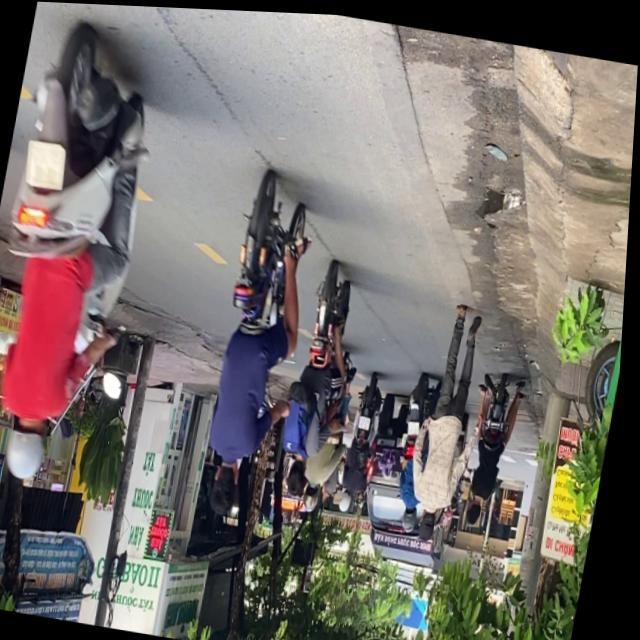helmet: (4, 414, 55, 485), (305, 480, 326, 511)
licenseplate: (0, 18, 175, 498), (190, 166, 330, 523), (274, 253, 376, 514)
motorcyclist: (209, 455, 249, 515), (286, 454, 315, 499)
nohelmet: (23, 142, 68, 189)
